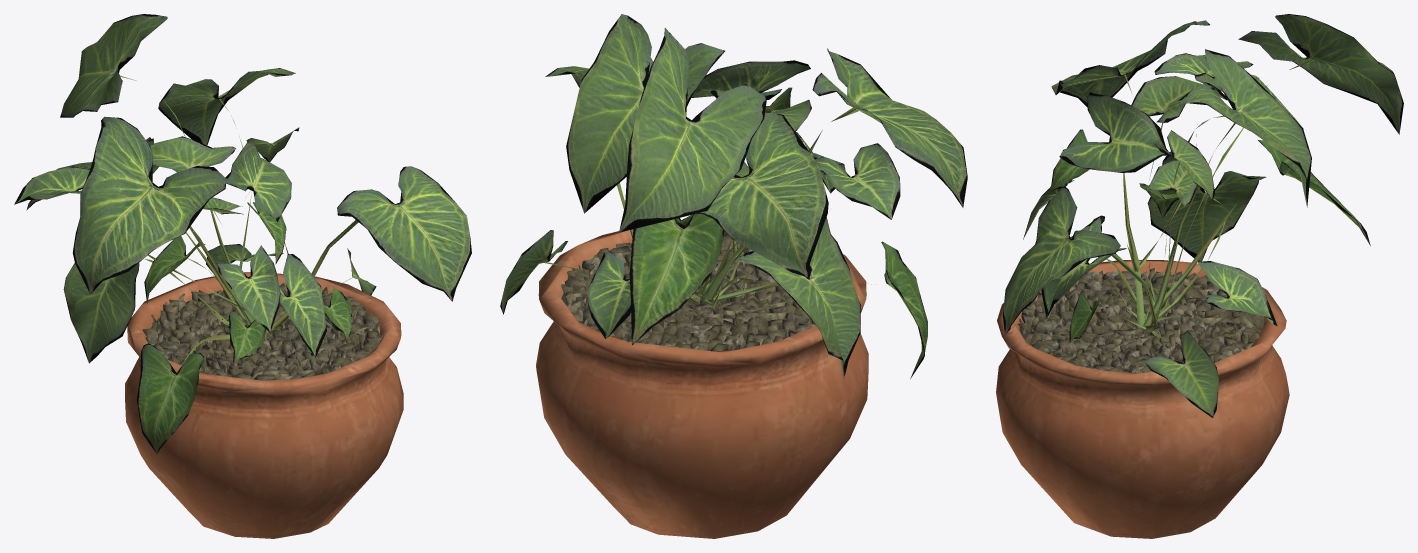
File: hp_room_cc0_plant2.glb
3 renders of one model, left to right at view 1: azimuth 30°, elevation 25°; view 2: azimuth 150°, elevation 25°; view 3: azimuth 270°, elevation 25°, orthographic. The views are drawn at different scales.
Parts seen in each view (by area): view 1: potted_plant_02_leaves, potted_plant_02_pot; view 2: potted_plant_02_leaves, potted_plant_02_pot; view 3: potted_plant_02_pot, potted_plant_02_leaves.
Boxes of the visible parts, x1,y1,x2,y2 form: potted_plant_02_leaves: (14,14,471,453); potted_plant_02_pot: (125,272,403,538); potted_plant_02_leaves: (500,14,967,378); potted_plant_02_pot: (536,230,868,538); potted_plant_02_pot: (996,260,1289,538); potted_plant_02_leaves: (1002,14,1403,417).
Bounding box in the file's own units: 0.7009 × 0.8395 × 0.6541.
Materials: 2 (2 with a texture image).
